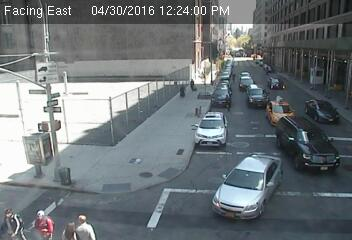neg: (71, 71, 102, 112), (298, 63, 325, 99), (111, 76, 138, 112), (224, 164, 251, 199), (227, 40, 253, 76), (199, 34, 225, 69), (199, 111, 224, 144), (26, 122, 47, 150), (266, 74, 285, 100), (155, 177, 174, 203), (36, 71, 54, 95), (52, 161, 66, 181)
pos: (30, 208, 50, 235), (2, 205, 20, 230), (76, 212, 92, 234), (178, 85, 189, 99), (186, 74, 196, 88)
